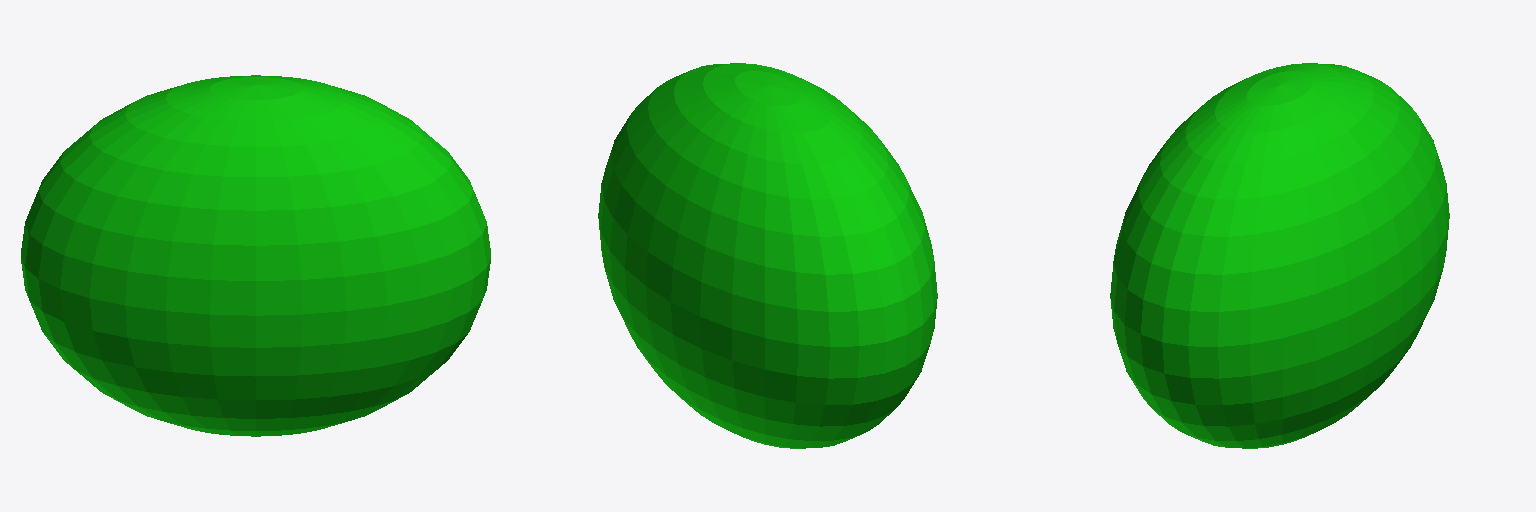
File: moya_TV_g.obj
The picture shows the model from 3 angles: view 1: azimuth 30°, elevation 25°; view 2: azimuth 150°, elevation 25°; view 3: azimuth 270°, elevation 25°; orthographic projection.
Visible parts, largest first — view 1: Sphere_Sphere.002; view 2: Sphere_Sphere.002; view 3: Sphere_Sphere.002.
Boxes of the visible parts, x1,y1,x2,y2 form: Sphere_Sphere.002: [21, 75, 490, 436]; Sphere_Sphere.002: [598, 63, 937, 448]; Sphere_Sphere.002: [1110, 63, 1449, 448].
Bounding box in the file's own units: 0.9149 × 0.8 × 0.721.